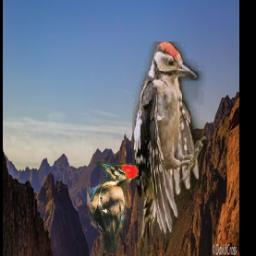Woodpecker: (132, 42, 206, 256), (85, 161, 139, 253)
